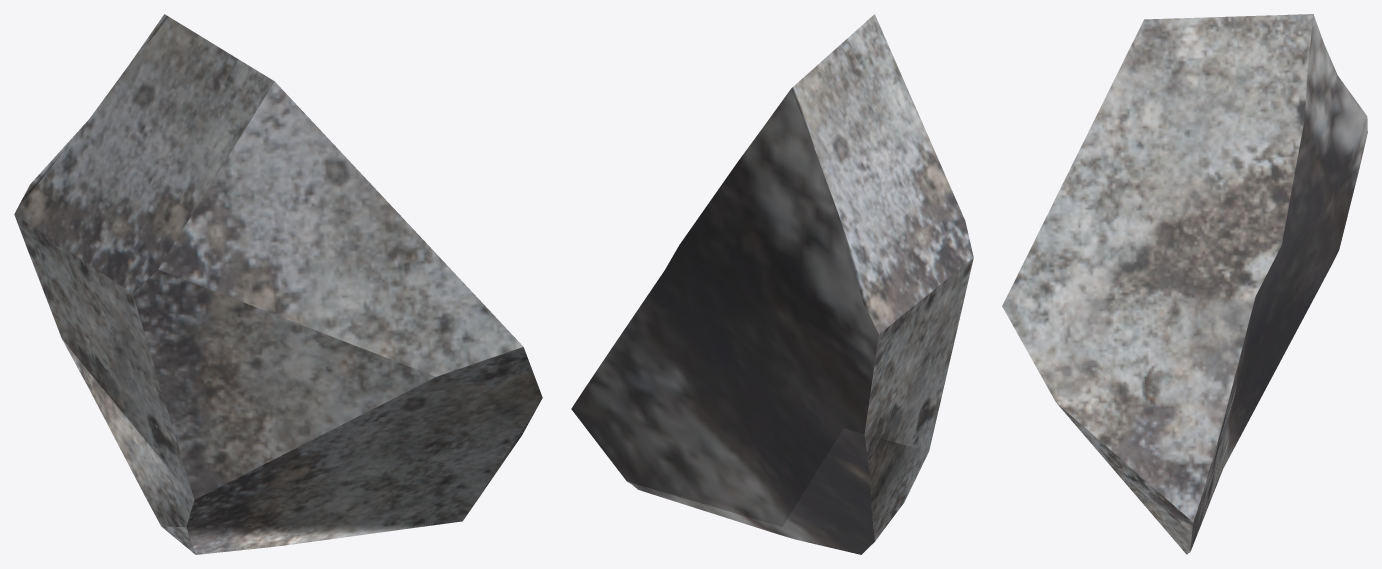
File: Asteroid_Large_001_02_003_03_001.fbx
3 renders of one model, left to right at view 1: azimuth 30°, elevation 25°; view 2: azimuth 150°, elevation 25°; view 3: azimuth 270°, elevation 25°, orthographic. The views are drawn at different scales.
Parts seen in each view (by area): view 1: Asteroid_Large_001_02_003_03_001; view 2: Asteroid_Large_001_02_003_03_001; view 3: Asteroid_Large_001_02_003_03_001.
Boxes of the visible parts, x1,y1,x2,y2 form: Asteroid_Large_001_02_003_03_001: [14, 14, 542, 554]; Asteroid_Large_001_02_003_03_001: [571, 14, 973, 554]; Asteroid_Large_001_02_003_03_001: [1002, 14, 1367, 554].
Size of the model in its own units: 7.79 by 9.31 by 6.93.
